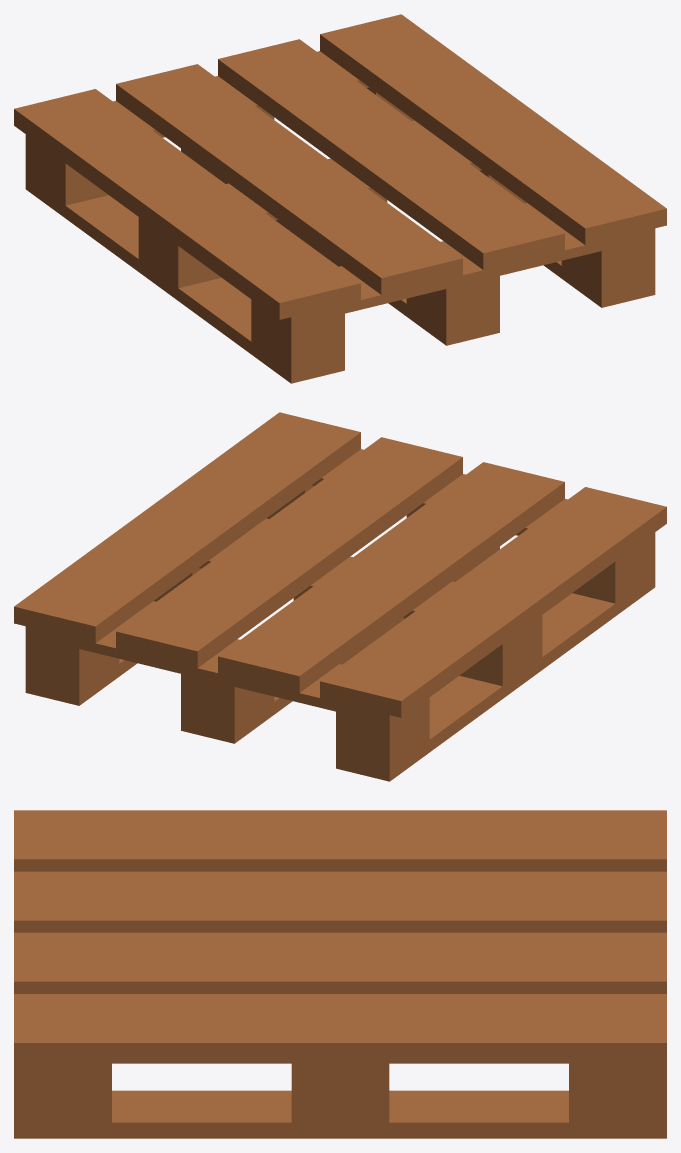
3 renders of one model, top to bottom at view 1: azimuth 30°, elevation 25°; view 2: azimuth 150°, elevation 25°; view 3: azimuth 270°, elevation 25°, orthographic. The views are drawn at different scales.
Visible parts, largest first — view 1: body; view 2: body; view 3: body.
Part boxes in pixels (x1=…): body: x1=14, y1=14, x2=666, y2=383; body: x1=14, y1=412, x2=666, y2=781; body: x1=14, y1=810, x2=666, y2=1138.
Size of the model in its own units: 1.01 by 0.208 by 1.2.
